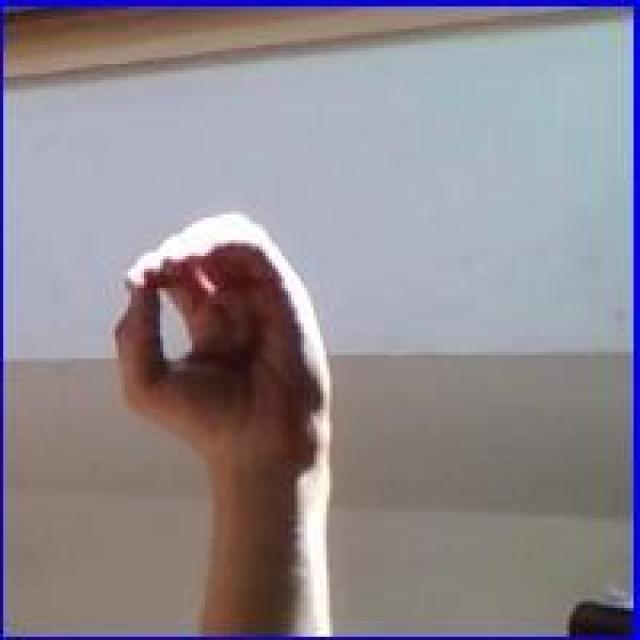O: (92, 203, 346, 485)
